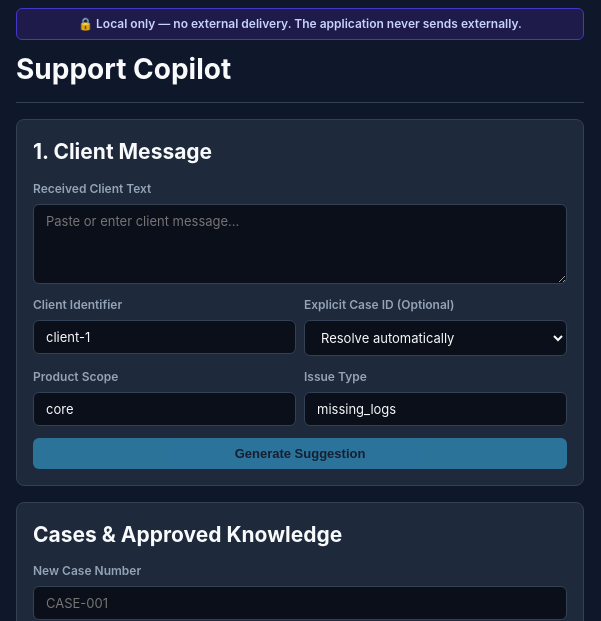
Test: Desktop Overlay App Component › confirm-sent records explicit human confirmation locally
This screenshot has width=601, height=621.
Type "Inquiry" into the text box labelled "Received Client Text". click: (300, 244)
box: [33,204,567,284]
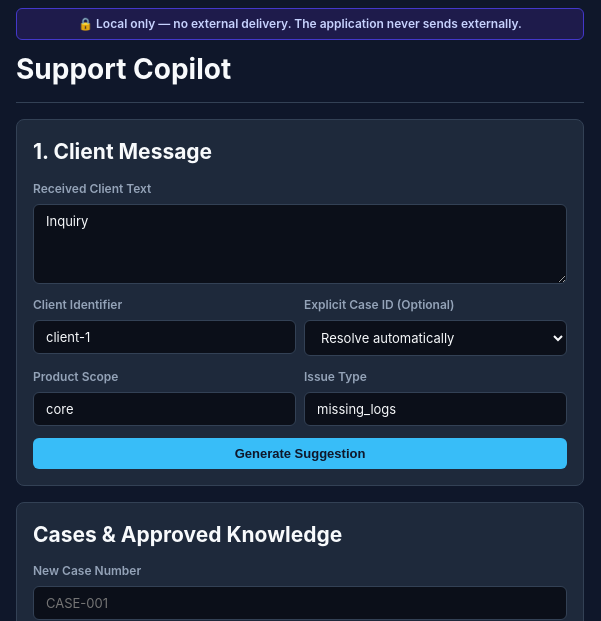
Click the button "Generate Suggestion". click: (300, 453)
box: [33,438,567,468]
(page scrolled)
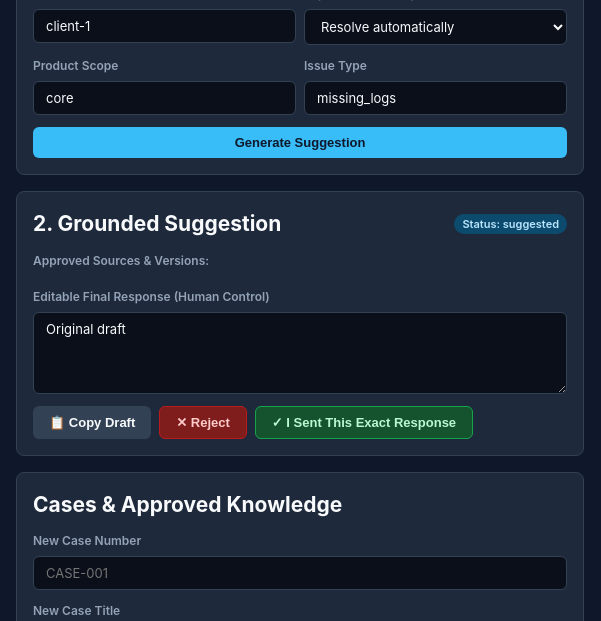
Result: the text box labelled "Editable Final Response (Human Control)" is shown
# Human edits text
Replace the text in the text box labelled "Editable Final Response (Human Control)" with "Edited final text that human actually sent.". click: (300, 352)
box: [33,312,567,394]
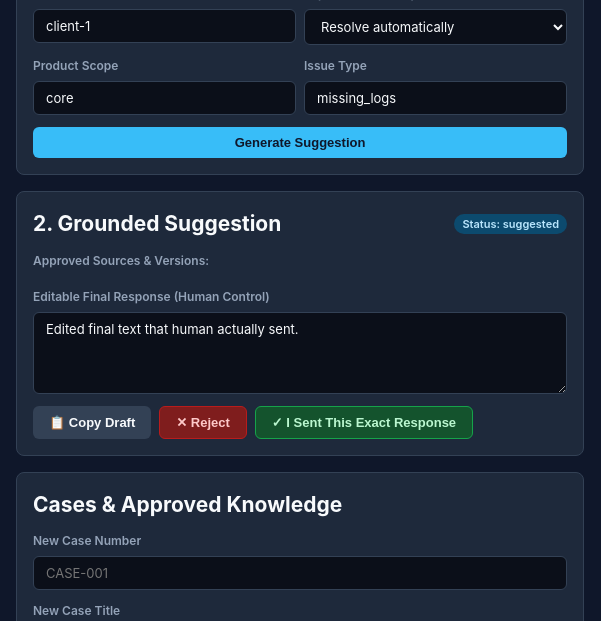
Click the button "✓ I Sent This Exact Response". click: (364, 422)
box: [255,406,473,438]
(page scrolled)
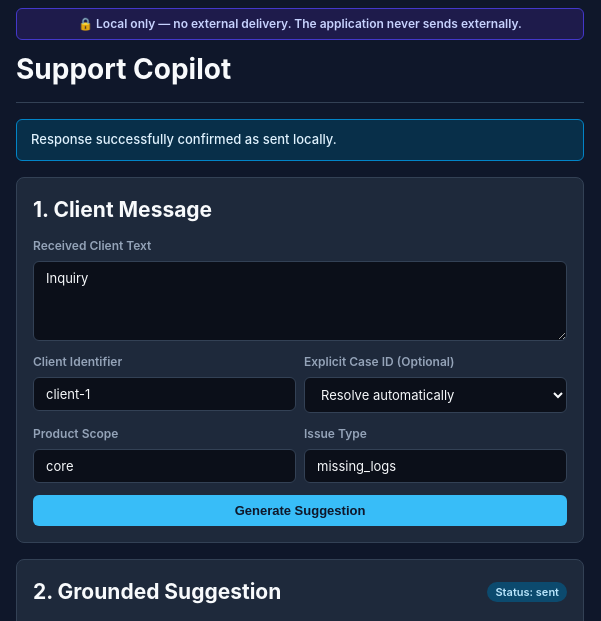
Result: the text "Response successfully confirmed as sent locally." is shown at [16,119,584,160]
